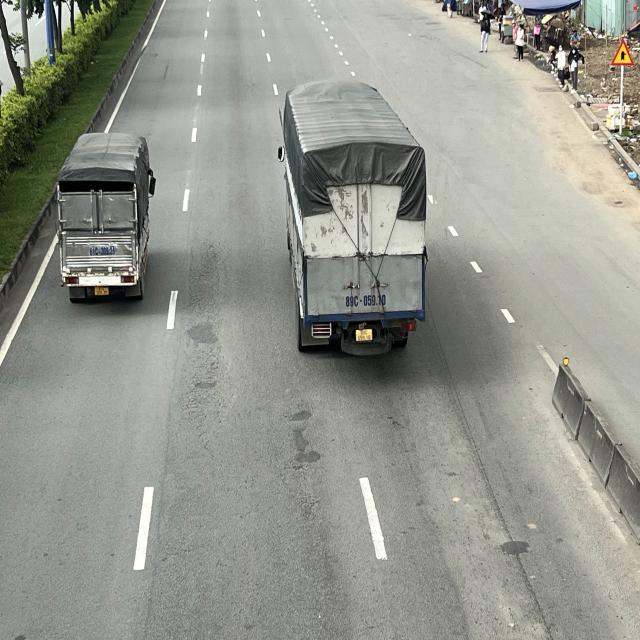truck: (277, 82, 428, 352), (56, 130, 156, 300)
